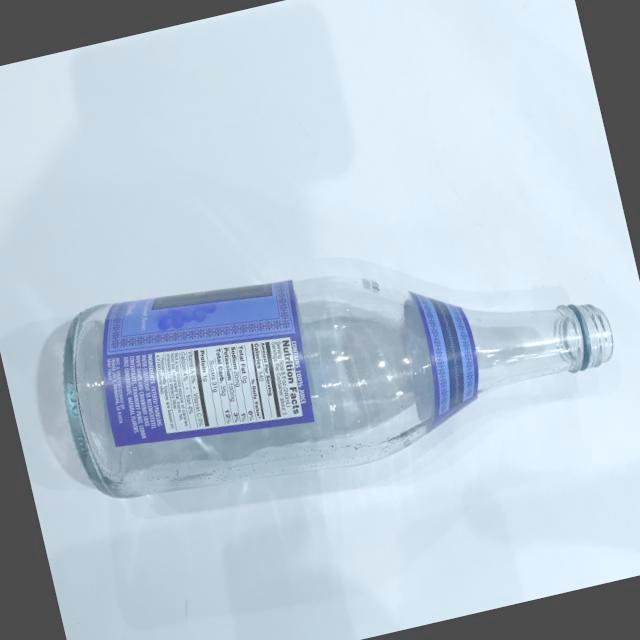glass: (26, 177, 640, 559)
